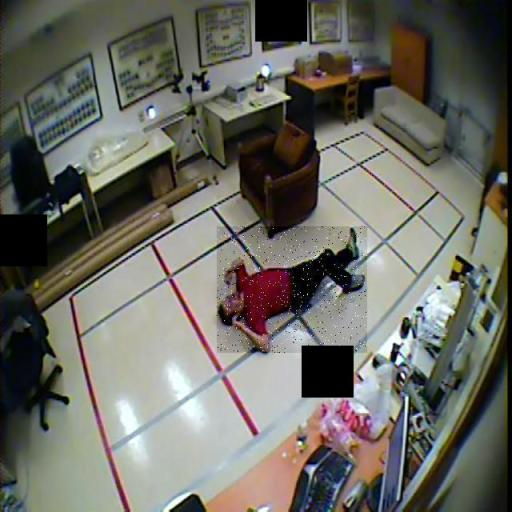Fall: (217, 226, 367, 353)
